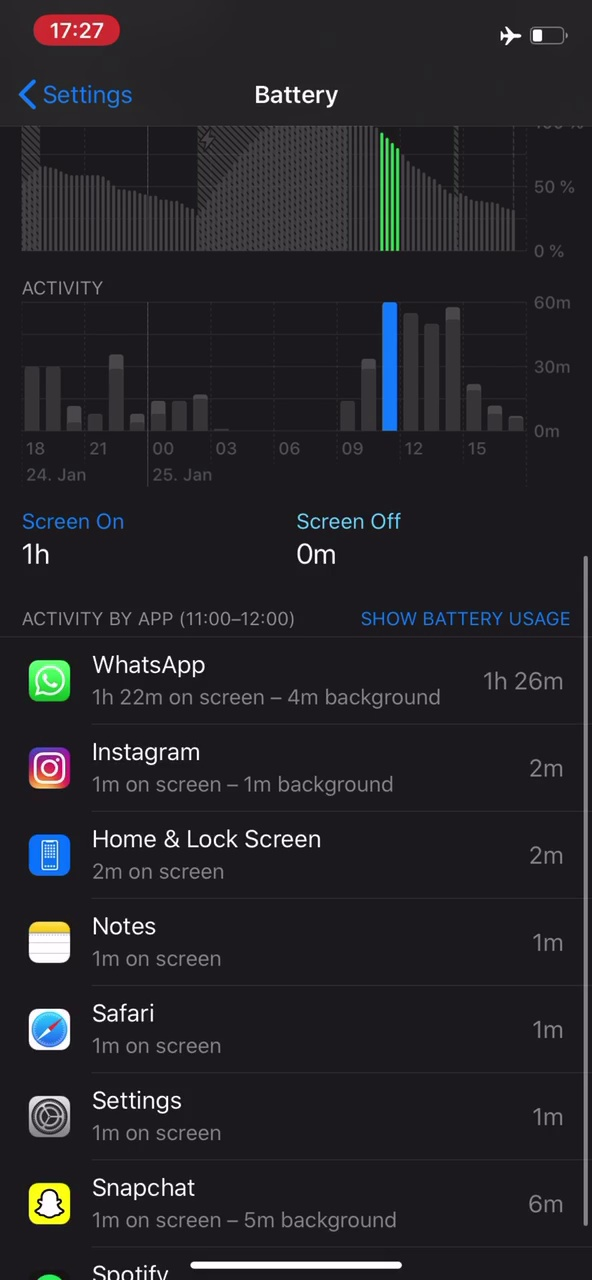activity: (9, 594, 311, 644)
app: (14, 647, 573, 716), (14, 729, 573, 798), (15, 818, 574, 887), (15, 912, 574, 981), (12, 999, 571, 1068), (13, 1086, 572, 1155), (14, 1173, 573, 1242)
